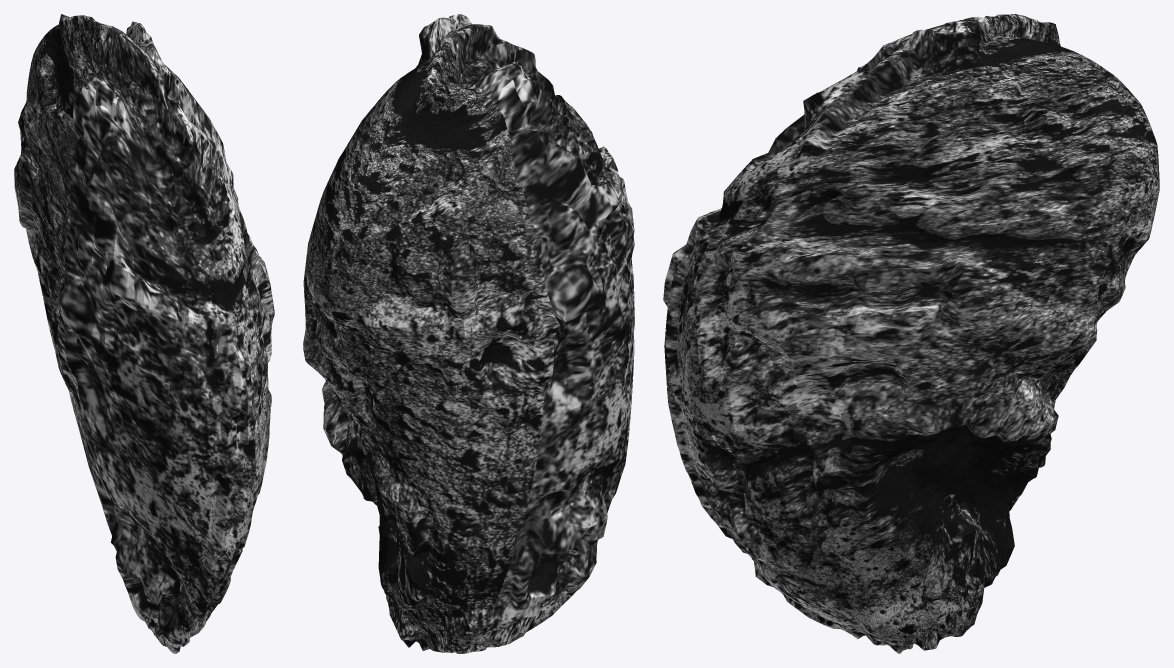
3 views of the same model, side by side, from view 1: azimuth 30°, elevation 25°; view 2: azimuth 150°, elevation 25°; view 3: azimuth 270°, elevation 25° (orthographic). The views are drawn at different scales.
Visible parts, largest first — view 1: Sphere; view 2: Sphere; view 3: Sphere.
Boxes of the visible parts, left/top/right/bottom form: Sphere: left=14, top=14, right=274, bottom=653; Sphere: left=303, top=14, right=634, bottom=653; Sphere: left=663, top=14, right=1159, bottom=653.
Bounding box in the file's own units: 0.8684 × 2.72 × 1.95.
1 material, 1 textured.
